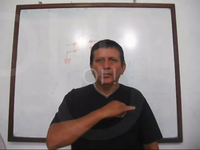oi: (93, 98, 136, 126)
